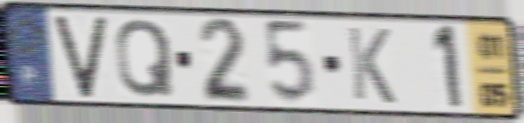1: (430, 22, 465, 113)
2: (195, 14, 254, 106)
5: (260, 17, 319, 109)
K: (345, 24, 399, 107)
Q: (114, 16, 178, 100)
V: (51, 13, 110, 101)
